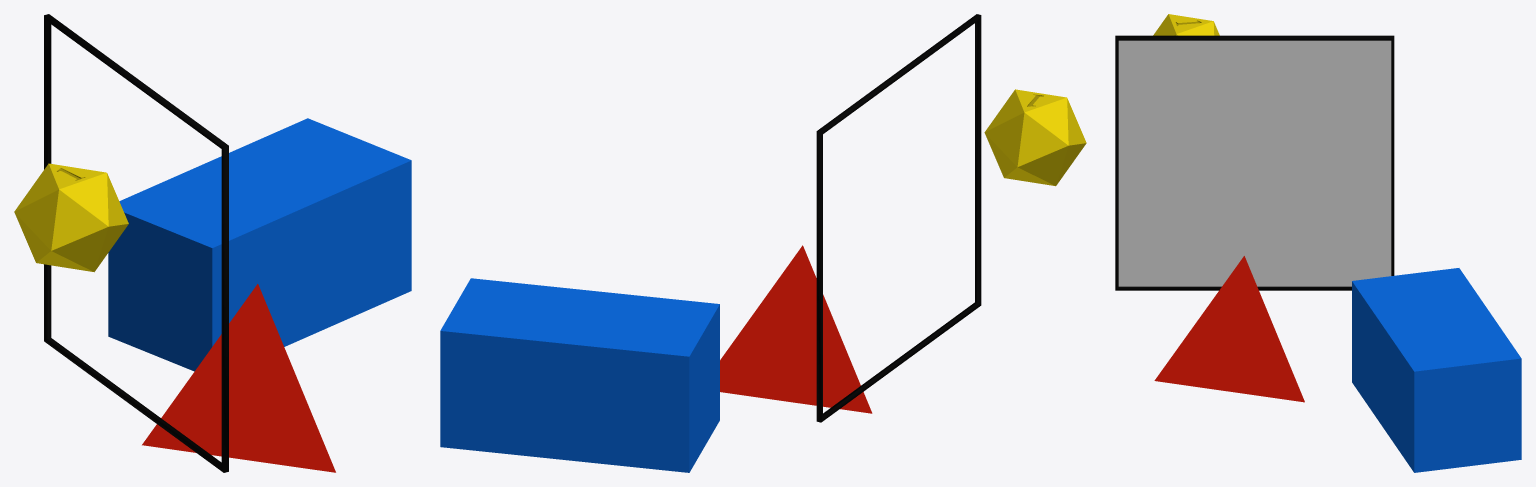
Rendered from MirrorScene.glb.
The picture shows the model from 3 angles, left to right: view 1: azimuth 30°, elevation 25°; view 2: azimuth 150°, elevation 25°; view 3: azimuth 270°, elevation 25°; orthographic projection. The views are drawn at different scales.
Visible parts, largest first — view 1: Cuboid, Tetrahedron, Icosahedron, MirrorRim; view 2: Cuboid, Tetrahedron, Icosahedron, MirrorRim; view 3: Mirror, Cuboid, Tetrahedron, MirrorRim, Icosahedron.
Boxes of the visible parts, box(x1,y1,x2,y2) form: Cuboid: box(108, 118, 411, 371); Tetrahedron: box(142, 284, 335, 472); Icosahedron: box(14, 163, 128, 272); MirrorRim: box(44, 14, 228, 472); Cuboid: box(440, 278, 719, 472); Tetrahedron: box(720, 245, 872, 413); Icosahedron: box(984, 89, 1086, 186); MirrorRim: box(816, 14, 981, 422); Mirror: box(1118, 40, 1391, 286); Cuboid: box(1352, 268, 1521, 472); Tetrahedron: box(1154, 256, 1304, 402); MirrorRim: box(1115, 35, 1394, 290); Icosahedron: box(1153, 14, 1219, 35).
Bounding box in the file's own units: 5.21 × 3.52 × 4.42.
